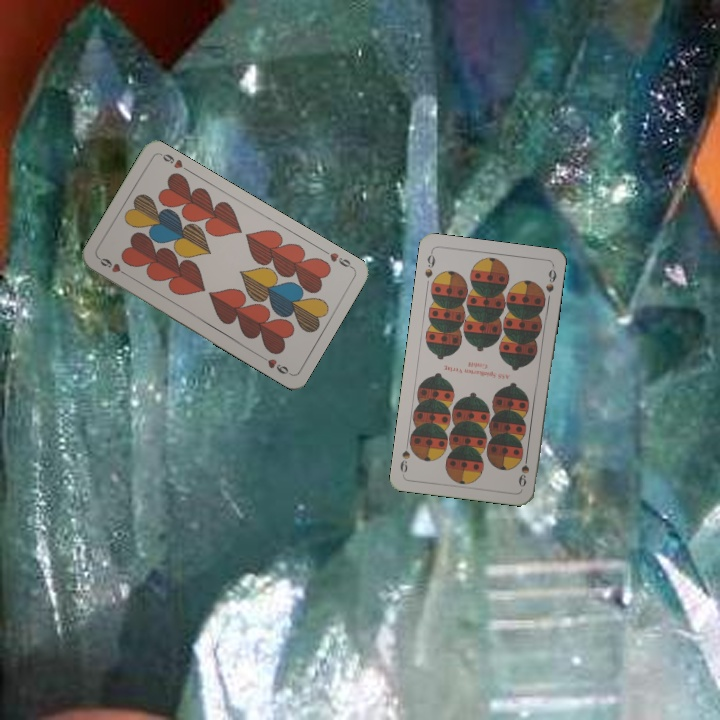H9: (95, 253, 131, 280), (319, 245, 356, 271)
S9: (514, 450, 531, 489), (421, 248, 437, 280)
